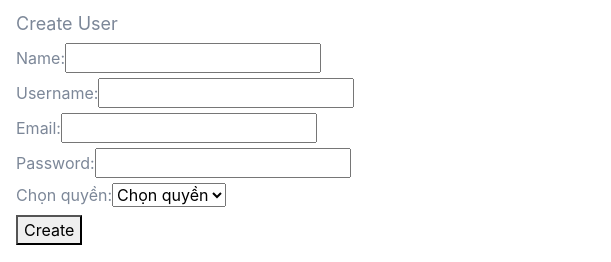
CreateUser Component › shows validation errors for empty inputs
Click the button "Create" at (49, 230), box [16,215,82,245]
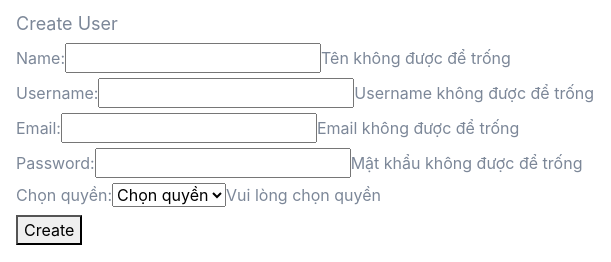
Result: the text "Tên không được để trống" is shown at [321,48,511,68]
Result: the text "Username không được để trống" is shown at [354,83,594,103]
Result: the text "Email không được để trống" is shown at [317,118,519,138]
